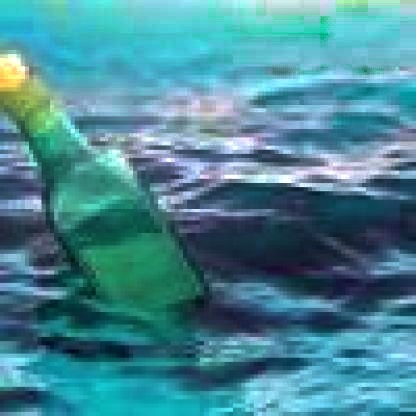gbottle: (4, 54, 212, 329)
